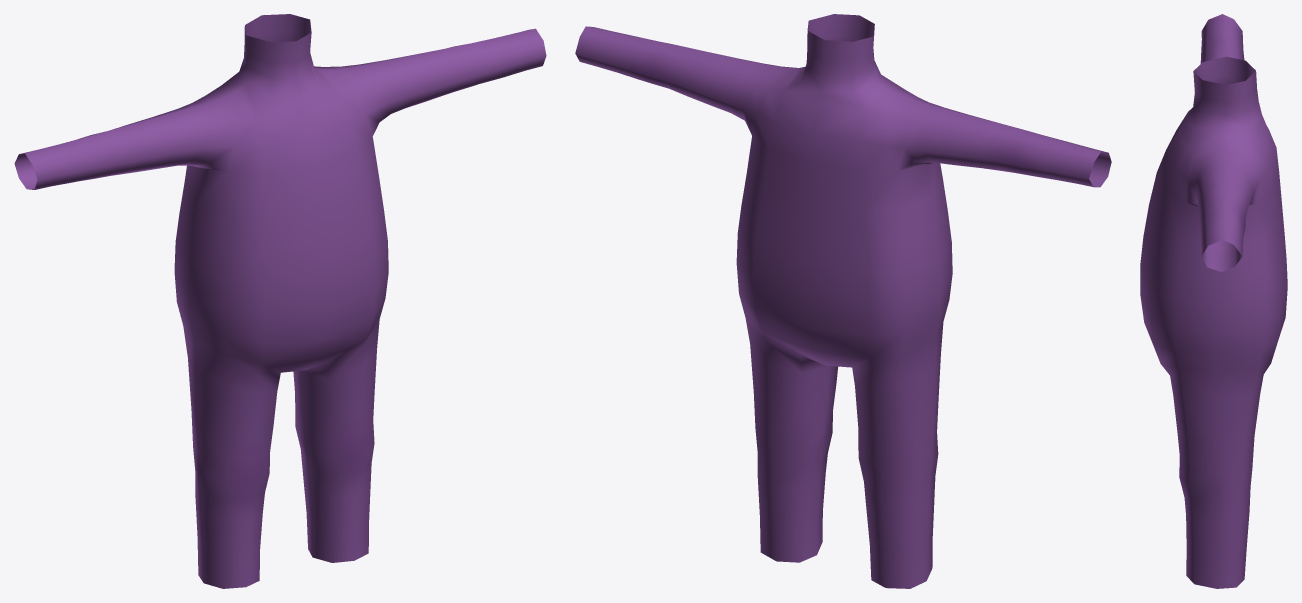
Rendered from Body_Purple_4.fbx.
The picture shows the model from 3 angles, left to right: view 1: azimuth 30°, elevation 25°; view 2: azimuth 150°, elevation 25°; view 3: azimuth 270°, elevation 25°; orthographic projection. The views are drawn at different scales.
Visible parts, largest first — view 1: Body_Purple_4; view 2: Body_Purple_4; view 3: Body_Purple_4.
Part boxes in pixels (x1=…): Body_Purple_4: x1=14, y1=14, x2=546, y2=588; Body_Purple_4: x1=575, y1=14, x2=1111, y2=588; Body_Purple_4: x1=1140, y1=14, x2=1287, y2=588.
Size of the model in its own units: 95.86 by 95.87 by 26.46.
